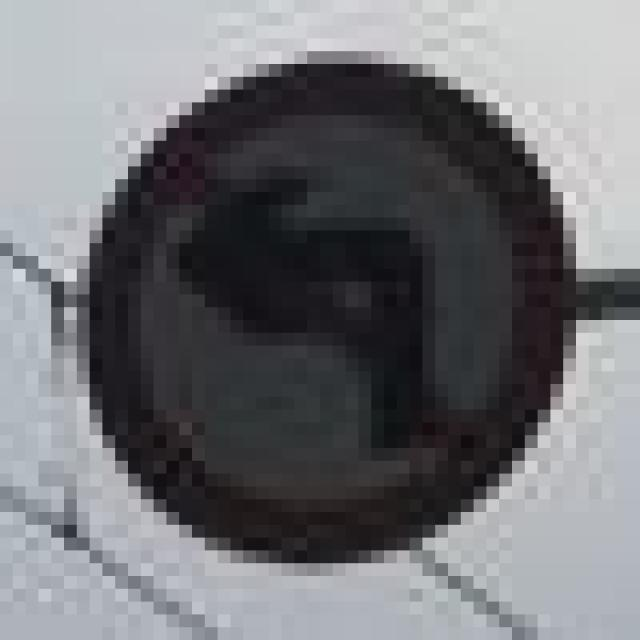do_not_turn_left: (64, 39, 576, 564)
